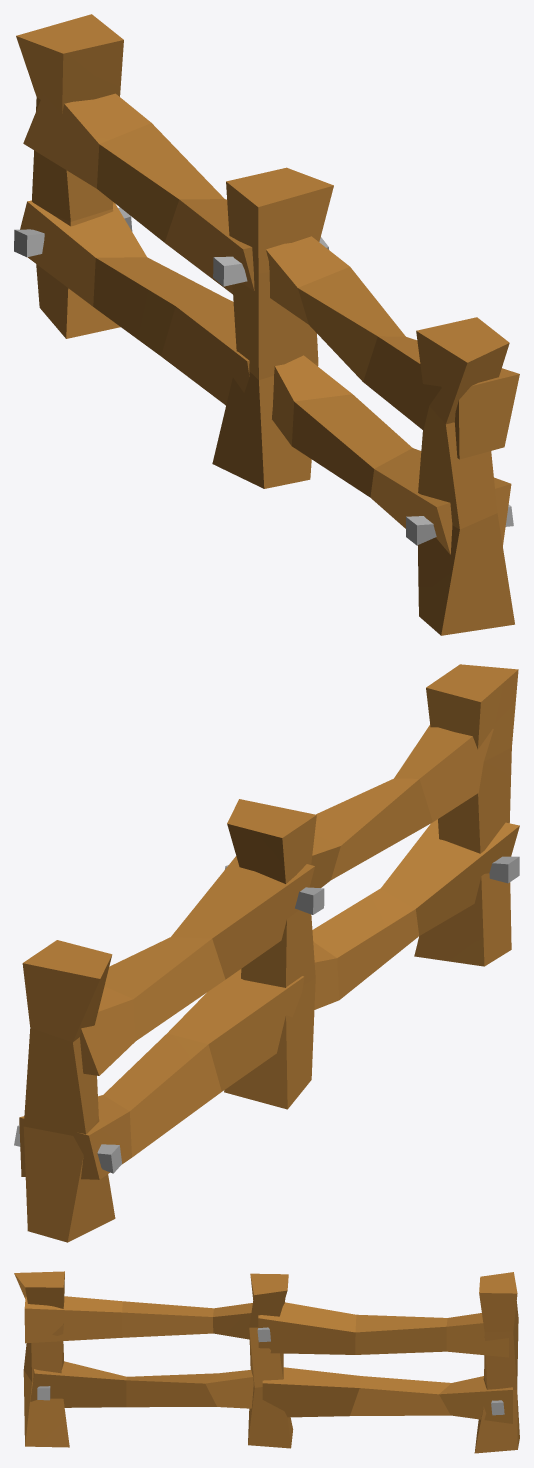
The model's file is fence.glb.
3 renders of one model, top to bottom at view 1: azimuth 30°, elevation 25°; view 2: azimuth 150°, elevation 25°; view 3: azimuth 270°, elevation 25°, orthographic. The views are drawn at different scales.
Parts seen in each view (by area): view 1: Cube.012_Material_0; view 2: Cube.012_Material_0; view 3: Cube.012_Material_0.
Part boxes in pixels (x1,y1,x2,y2): Cube.012_Material_0: (14,14,519,635); Cube.012_Material_0: (14,664,519,1242); Cube.012_Material_0: (14,1271,519,1453).
Bounding box in the file's own units: 1.15 × 2.55 × 7.39.
Materials: 1 (1 with a texture image).
